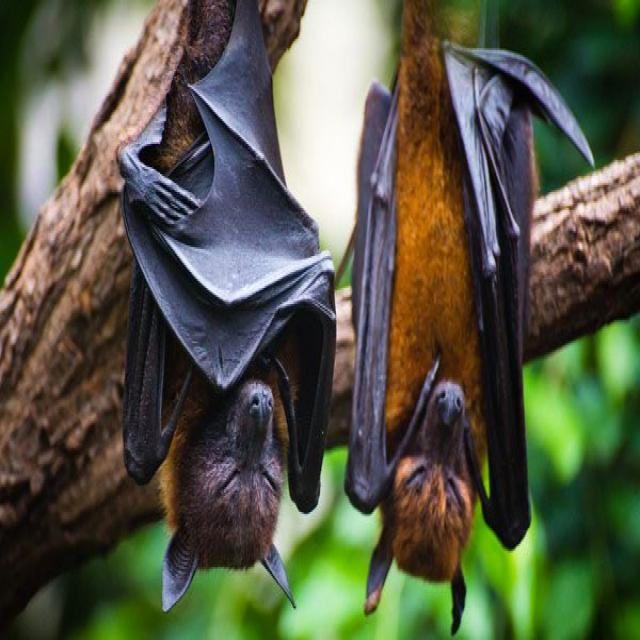bat: (346, 0, 594, 633), (119, 0, 336, 608)
